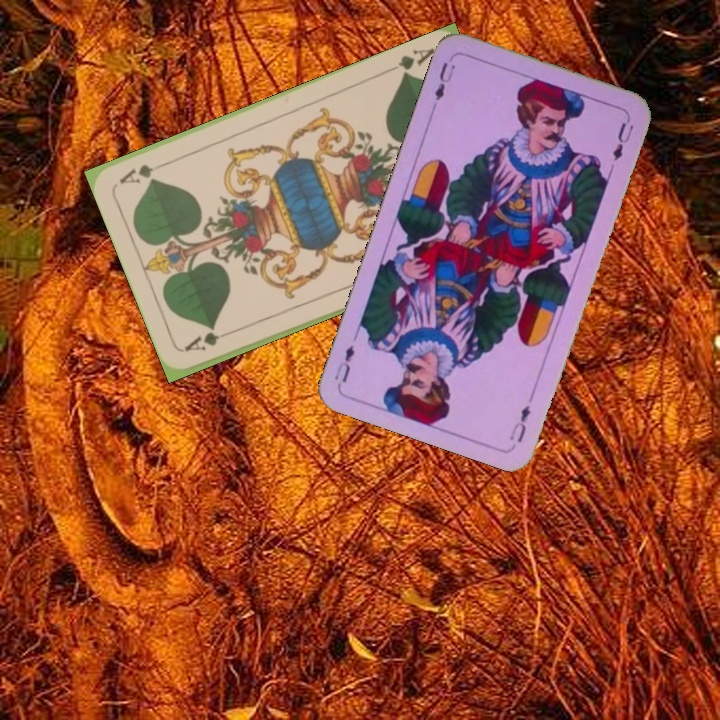EU: (505, 401, 534, 445), (430, 58, 458, 103)
GA: (382, 44, 438, 80), (181, 325, 238, 355)
